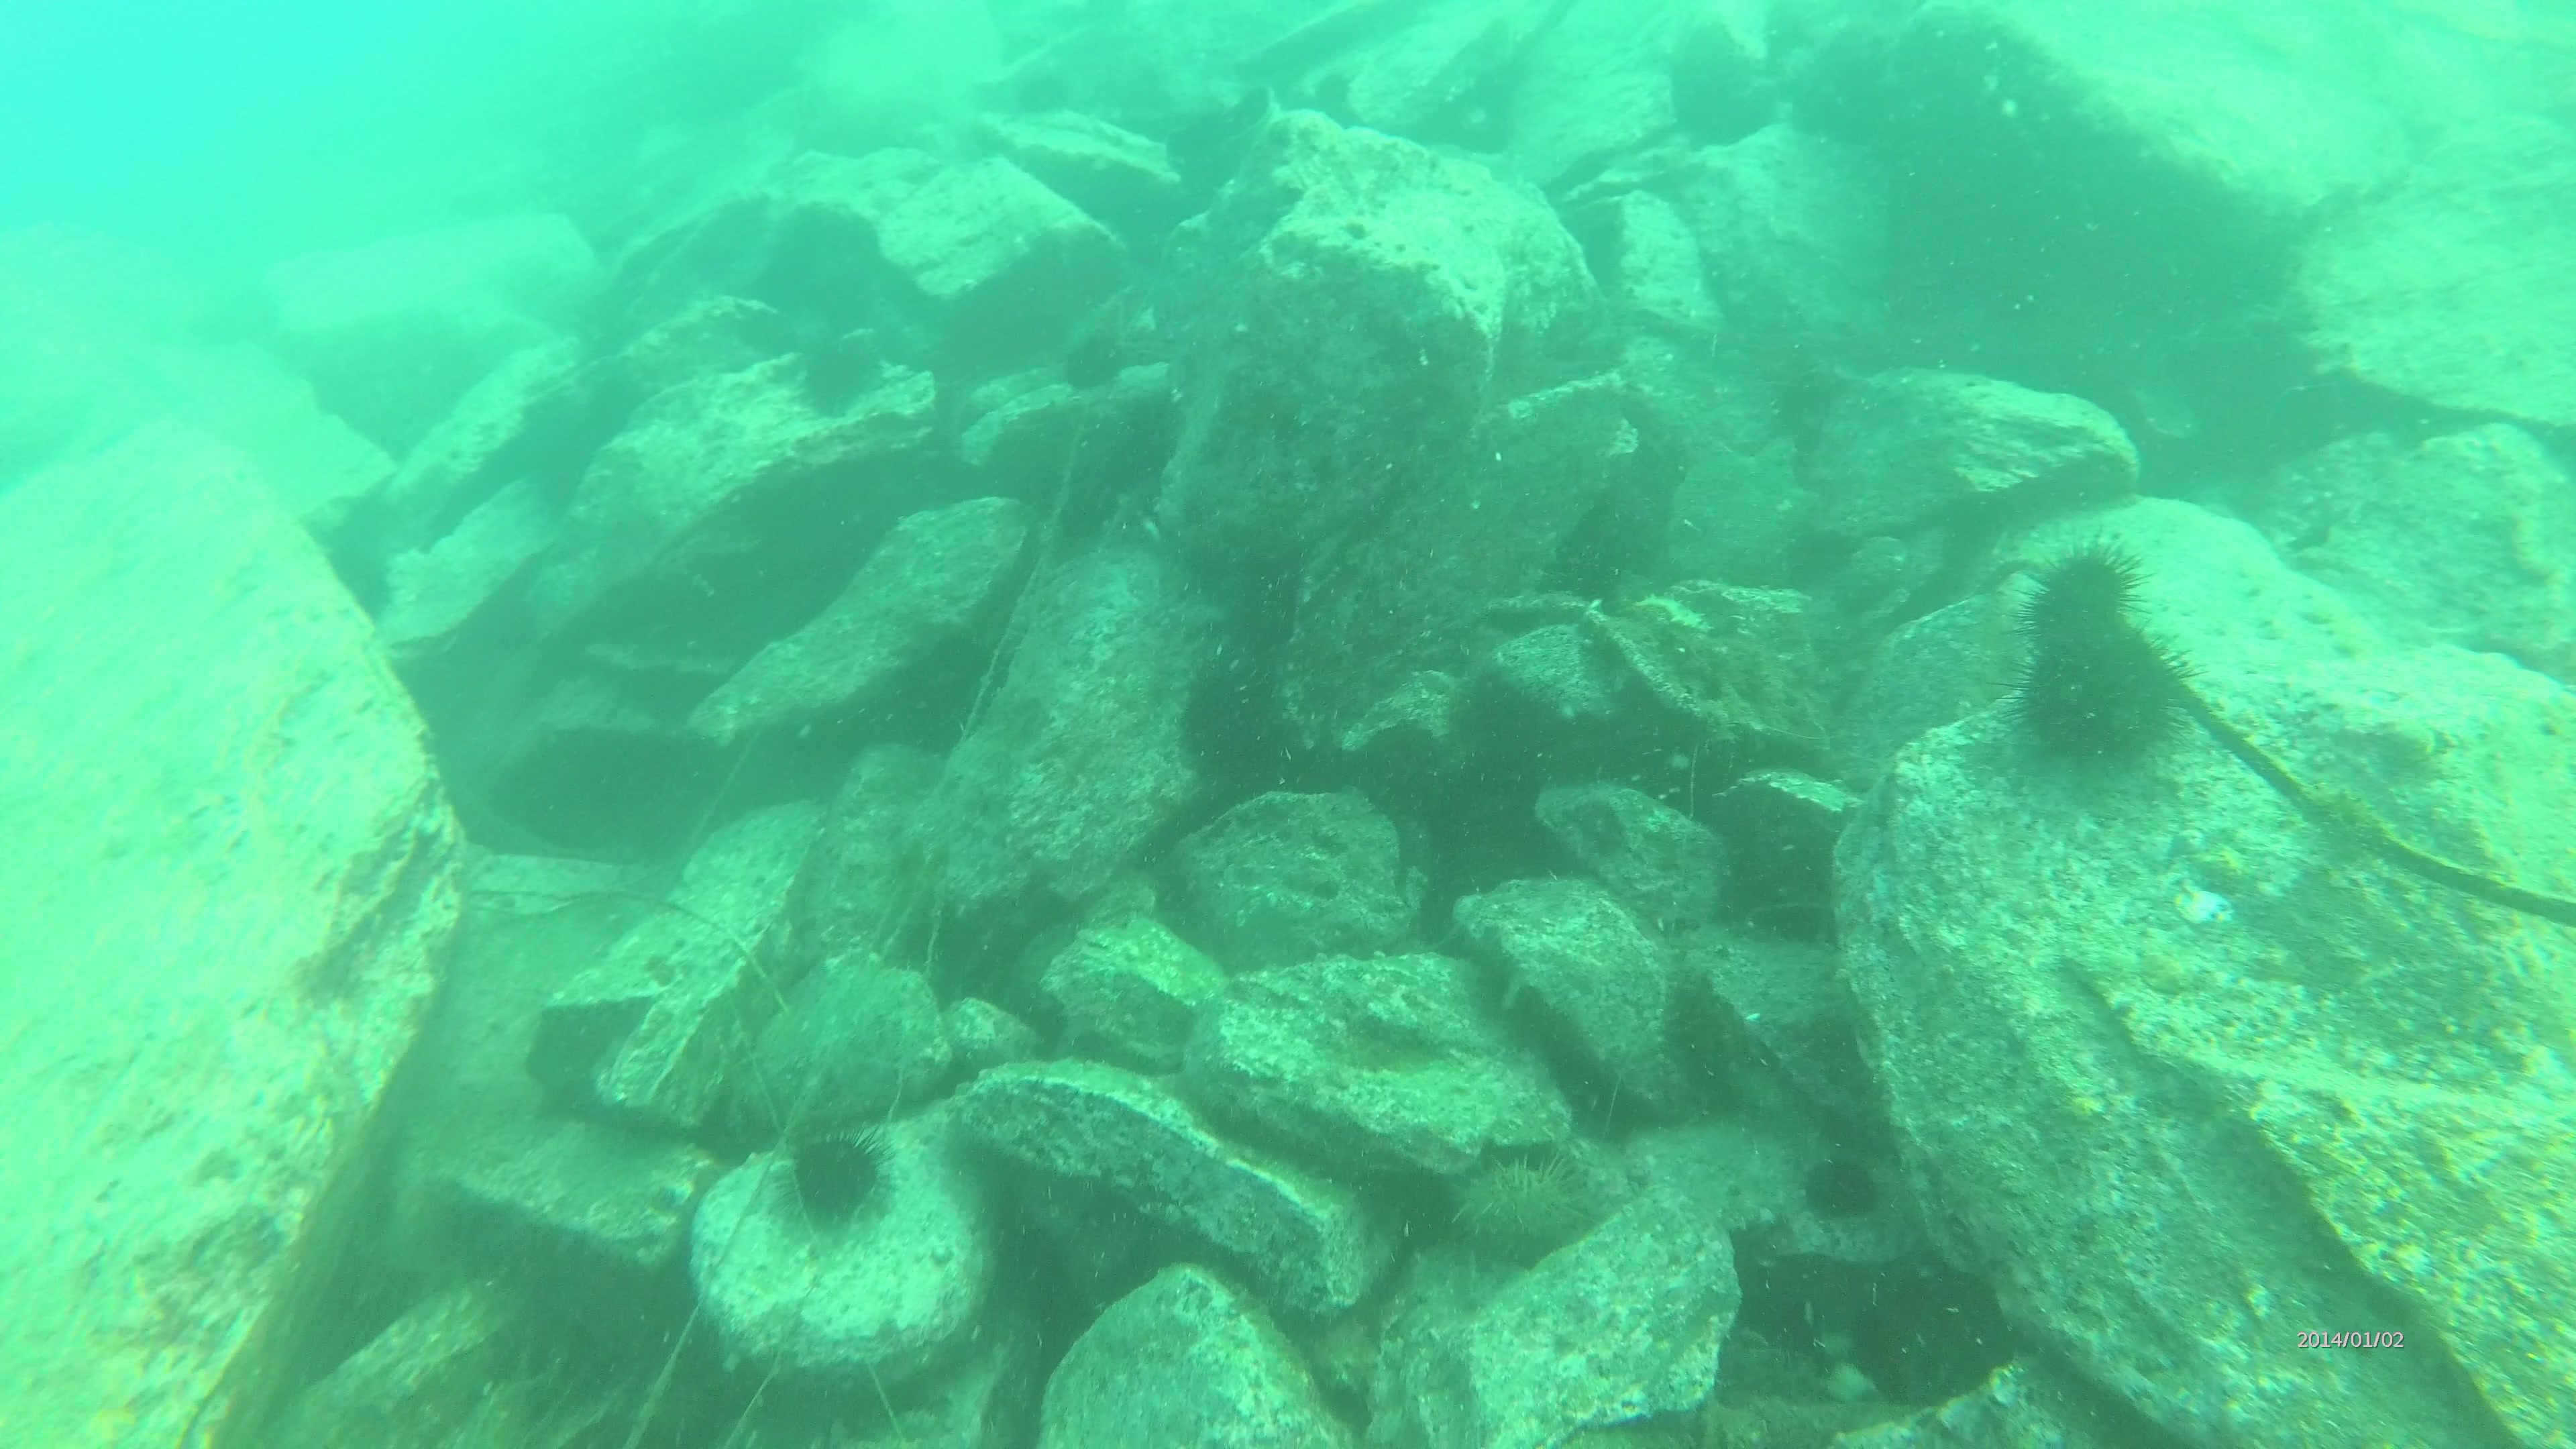echinus: (1990, 633, 2203, 775), (1440, 1148, 1615, 1279), (2017, 525, 2155, 646), (775, 1127, 906, 1231), (1783, 1152, 1898, 1237), (1049, 331, 1139, 389), (801, 341, 876, 410)
holothurian: (1357, 1001, 1474, 1076), (2307, 778, 2403, 865), (1638, 591, 1711, 630)
